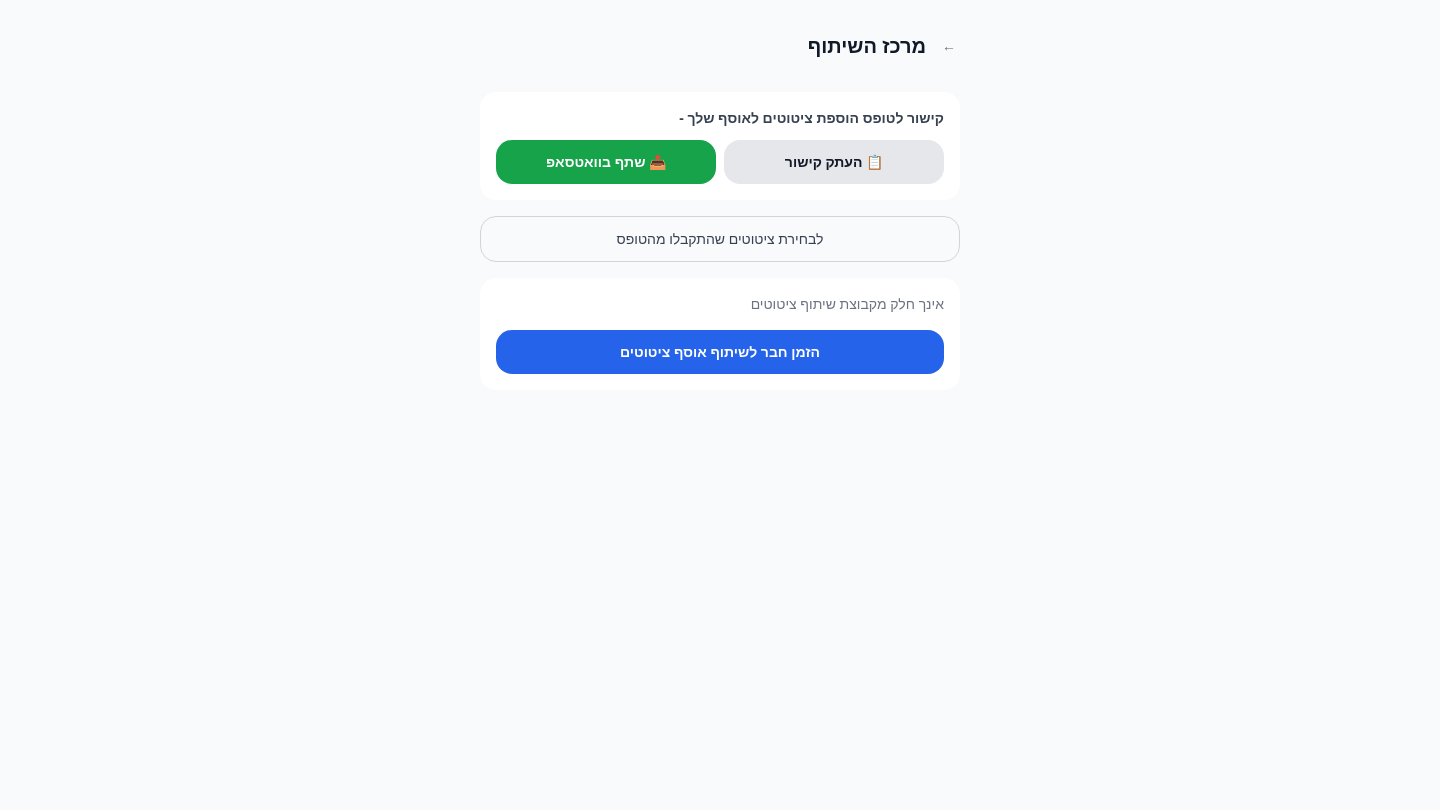
Test: SharingCenterScreen — guest inbox › opens inbox modal and shows loading state
The image size is (1440, 810).
Click the button "לבחירת ציטוטים שהתקבלו מהטופס": (720, 239) [480,216,960,262]
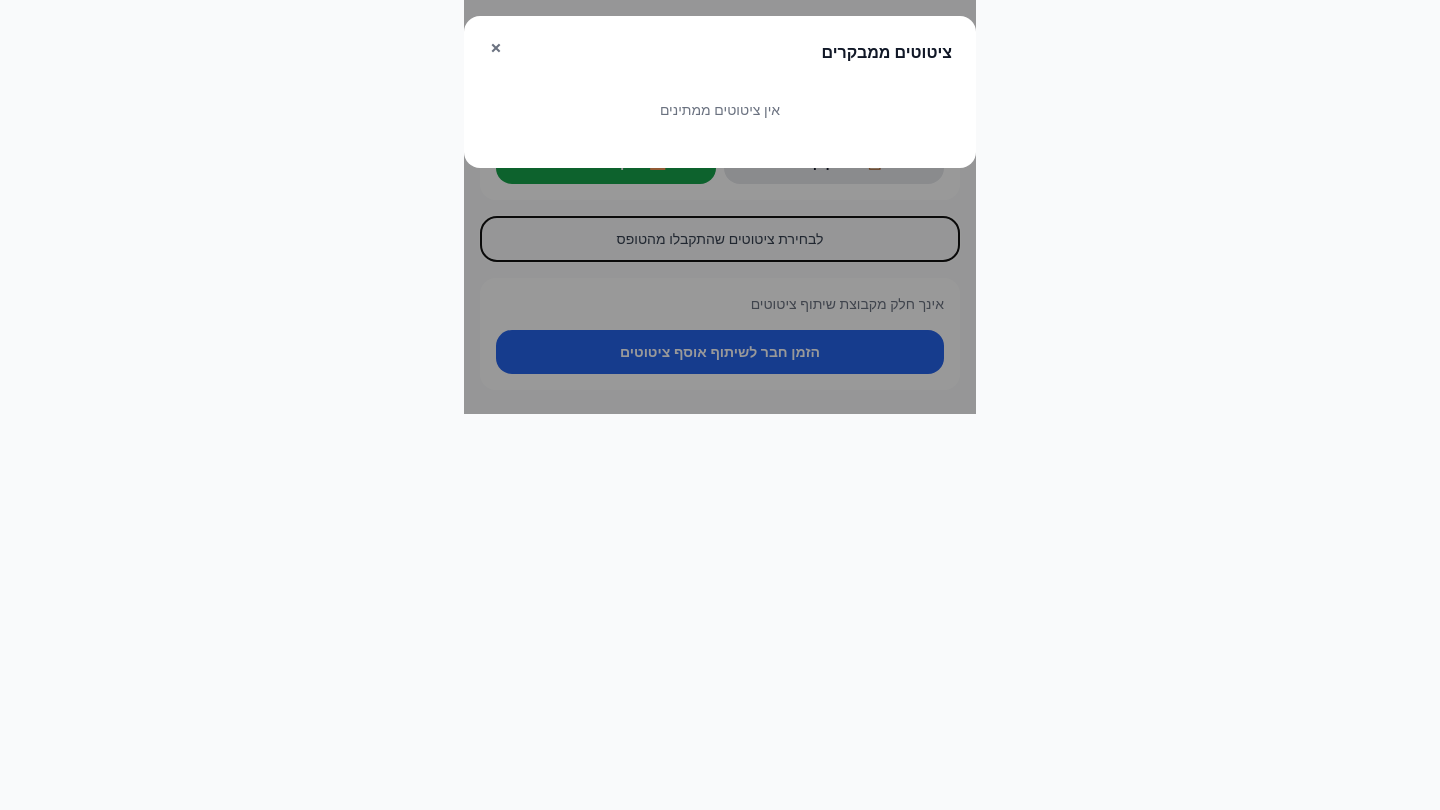
Expected: the text "טוען..." is shown, [660,100,780,119]
